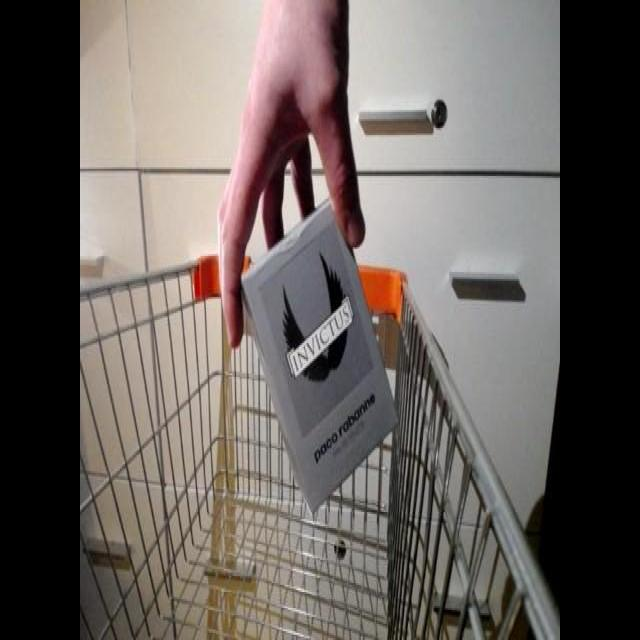Paco Rabanne: (239, 189, 411, 515)
